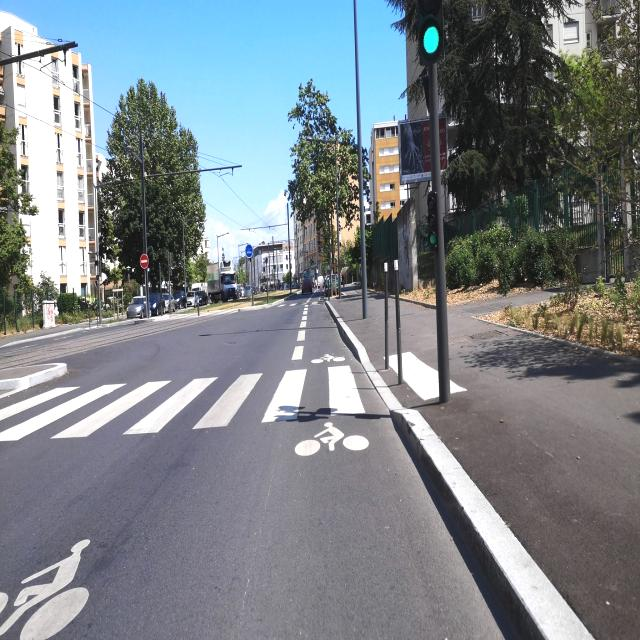car: (126, 294, 149, 318), (149, 291, 163, 315), (161, 291, 175, 312), (173, 289, 187, 309), (187, 289, 200, 306), (301, 278, 313, 294), (260, 273, 270, 292)
